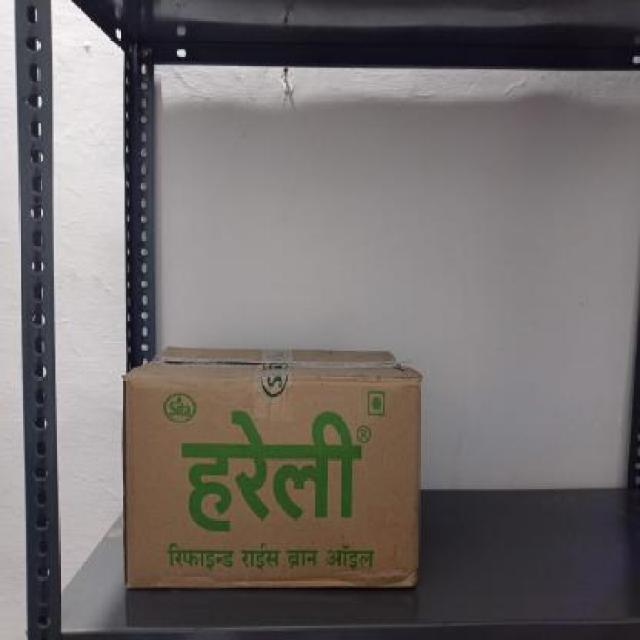box: (125, 366, 422, 592)
